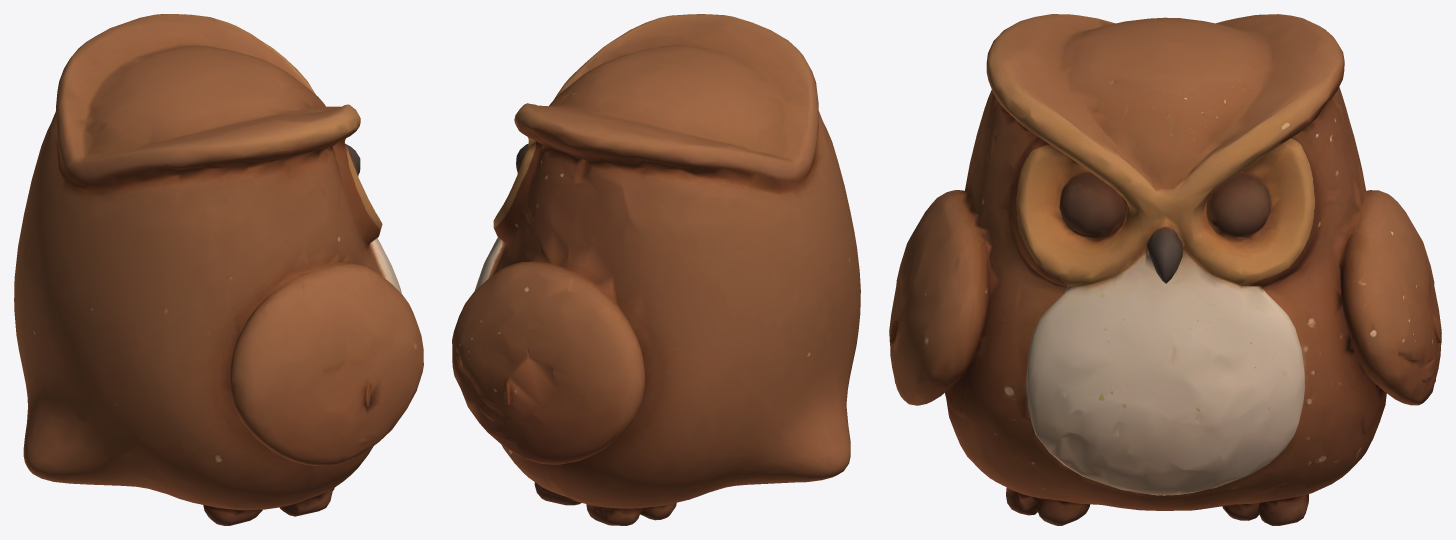
Rendered from body.glb.
3 renders of one model, left to right at view 1: azimuth 30°, elevation 25°; view 2: azimuth 150°, elevation 25°; view 3: azimuth 270°, elevation 25°, orthographic. The views are drawn at different scales.
Parts seen in each view (by area): view 1: tripo_node_5dd73d63-89b8-4362-b5a9-c61a10216b90; view 2: tripo_node_5dd73d63-89b8-4362-b5a9-c61a10216b90; view 3: tripo_node_5dd73d63-89b8-4362-b5a9-c61a10216b90.
Part boxes in pixels (x1,y1,x2,y2): tripo_node_5dd73d63-89b8-4362-b5a9-c61a10216b90: (14,14,423,525); tripo_node_5dd73d63-89b8-4362-b5a9-c61a10216b90: (452,14,860,525); tripo_node_5dd73d63-89b8-4362-b5a9-c61a10216b90: (889,14,1441,525).
Bounding box in the file's own units: 0.7977 × 0.8946 × 1.
Materials: 1 (1 with a texture image).
